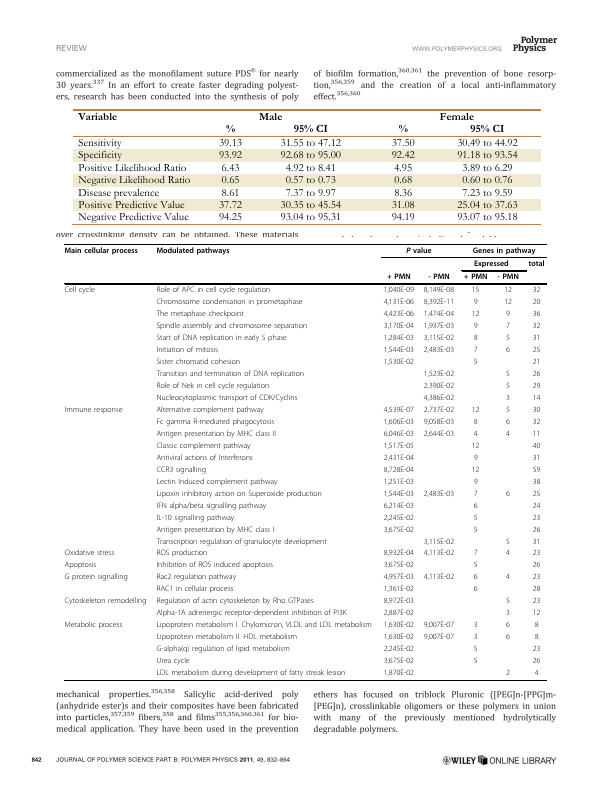borderless: (63, 242, 547, 680), (73, 107, 541, 224)
cell: (155, 620, 373, 630), (155, 608, 348, 618), (155, 668, 346, 678), (155, 596, 315, 606), (155, 537, 328, 546), (155, 321, 308, 331), (155, 489, 323, 498), (155, 369, 305, 379), (155, 393, 298, 403), (155, 632, 298, 642), (77, 175, 191, 187), (155, 644, 291, 654), (77, 212, 189, 224), (155, 298, 304, 307), (155, 333, 288, 343), (77, 162, 187, 174), (77, 200, 185, 212), (155, 429, 277, 439), (155, 417, 275, 427), (155, 381, 270, 391), (155, 477, 278, 486), (155, 405, 265, 415), (155, 525, 275, 534), (155, 561, 274, 570), (155, 286, 271, 295), (155, 501, 267, 510), (77, 187, 159, 199), (155, 441, 251, 451), (155, 309, 245, 319), (155, 453, 254, 462), (155, 357, 241, 367), (63, 596, 148, 606), (155, 572, 237, 582), (155, 584, 234, 594), (279, 138, 341, 150), (456, 138, 518, 150), (279, 150, 341, 162), (456, 150, 518, 162), (279, 200, 341, 212), (456, 200, 518, 212), (279, 212, 341, 224), (456, 212, 518, 224), (155, 513, 235, 522), (64, 246, 139, 255), (155, 246, 230, 255), (63, 572, 129, 582), (155, 345, 219, 355), (284, 162, 336, 174), (461, 162, 513, 174), (284, 175, 336, 187), (461, 175, 513, 187), (284, 187, 336, 199), (461, 187, 513, 199), (63, 405, 123, 415), (63, 620, 123, 630), (472, 246, 536, 255), (77, 138, 122, 150), (77, 150, 122, 162), (155, 549, 208, 558), (155, 465, 207, 474), (63, 549, 115, 558), (77, 111, 118, 121), (473, 259, 510, 269), (438, 111, 474, 121), (155, 656, 191, 666), (292, 124, 328, 133), (469, 124, 505, 133), (383, 309, 415, 319), (423, 309, 455, 319), (383, 321, 415, 331), (423, 321, 455, 331), (383, 333, 415, 343), (423, 333, 455, 343), (383, 345, 415, 355), (423, 345, 455, 355), (383, 357, 415, 367), (423, 369, 455, 379), (423, 381, 455, 391), (423, 393, 455, 403), (383, 405, 415, 415), (423, 405, 455, 415), (383, 417, 415, 427), (423, 417, 455, 427), (383, 429, 415, 439), (423, 429, 455, 439), (383, 441, 415, 451), (383, 572, 415, 582), (423, 572, 455, 582), (383, 584, 415, 594), (383, 596, 415, 606), (383, 608, 415, 618), (383, 620, 415, 630), (423, 620, 455, 630), (383, 632, 415, 642), (423, 632, 455, 642), (383, 644, 415, 654), (383, 656, 415, 666), (383, 668, 415, 678), (63, 561, 97, 570), (217, 138, 242, 150), (390, 138, 415, 150), (217, 150, 242, 162), (390, 150, 415, 162), (217, 200, 242, 212), (390, 200, 415, 212), (217, 212, 242, 224), (390, 212, 415, 224), (63, 286, 96, 295), (383, 286, 415, 295), (423, 286, 455, 295), (383, 298, 415, 307), (423, 298, 455, 307), (383, 453, 415, 462), (383, 465, 415, 474), (383, 477, 415, 486), (383, 489, 415, 498), (423, 489, 455, 498), (383, 501, 415, 510), (383, 513, 415, 522), (383, 525, 415, 534), (423, 537, 455, 546), (383, 549, 415, 558), (423, 549, 455, 558), (383, 561, 415, 570), (257, 111, 283, 121), (386, 272, 412, 282), (463, 272, 488, 282), (405, 246, 432, 255), (220, 162, 240, 174), (220, 175, 240, 187), (220, 187, 240, 199), (496, 272, 520, 282), (427, 272, 450, 282), (393, 162, 412, 174), (393, 175, 412, 187), (393, 187, 412, 199), (528, 259, 545, 269), (224, 124, 235, 133), (397, 124, 408, 133), (503, 286, 513, 295), (503, 298, 513, 307), (471, 309, 480, 319), (532, 309, 541, 319), (532, 321, 541, 331), (532, 333, 541, 343), (532, 345, 541, 355), (532, 357, 541, 367), (532, 369, 541, 379), (532, 381, 541, 391), (532, 393, 541, 403), (471, 405, 480, 415), (532, 405, 541, 415), (532, 417, 541, 427), (532, 429, 541, 439), (471, 441, 480, 451), (532, 441, 541, 451), (532, 572, 541, 582), (532, 584, 541, 594), (532, 596, 541, 606), (532, 608, 541, 618), (532, 644, 541, 654), (532, 656, 541, 666), (471, 286, 480, 295), (532, 286, 541, 295), (532, 298, 541, 307), (532, 453, 541, 462), (471, 465, 480, 474), (532, 465, 541, 474), (532, 477, 541, 486), (532, 489, 541, 498), (532, 501, 541, 510), (532, 513, 541, 522), (532, 525, 541, 534), (532, 537, 541, 546), (532, 549, 541, 558), (532, 561, 541, 570), (505, 309, 511, 319), (505, 321, 511, 331), (505, 333, 511, 343), (505, 345, 511, 355), (505, 369, 511, 379), (505, 381, 511, 391), (505, 393, 511, 403), (505, 405, 511, 415), (505, 417, 511, 427), (505, 429, 511, 439), (505, 572, 511, 582), (505, 596, 511, 606), (505, 608, 511, 618), (505, 620, 511, 630), (505, 632, 511, 642), (505, 668, 511, 678), (505, 489, 511, 498), (505, 537, 511, 546), (505, 549, 511, 558), (473, 321, 478, 331), (473, 333, 478, 343), (473, 345, 478, 355), (473, 357, 478, 367), (473, 417, 478, 427), (473, 429, 478, 439), (473, 572, 478, 582), (473, 584, 478, 594), (473, 620, 478, 630), (534, 620, 539, 630), (473, 632, 478, 642), (534, 632, 539, 642), (473, 644, 478, 654), (473, 656, 478, 666), (534, 668, 539, 678), (473, 298, 478, 307), (473, 453, 478, 462), (473, 477, 478, 486), (473, 489, 478, 498), (473, 501, 478, 510), (473, 513, 478, 522), (473, 525, 478, 534), (473, 549, 478, 558), (473, 561, 478, 570)
